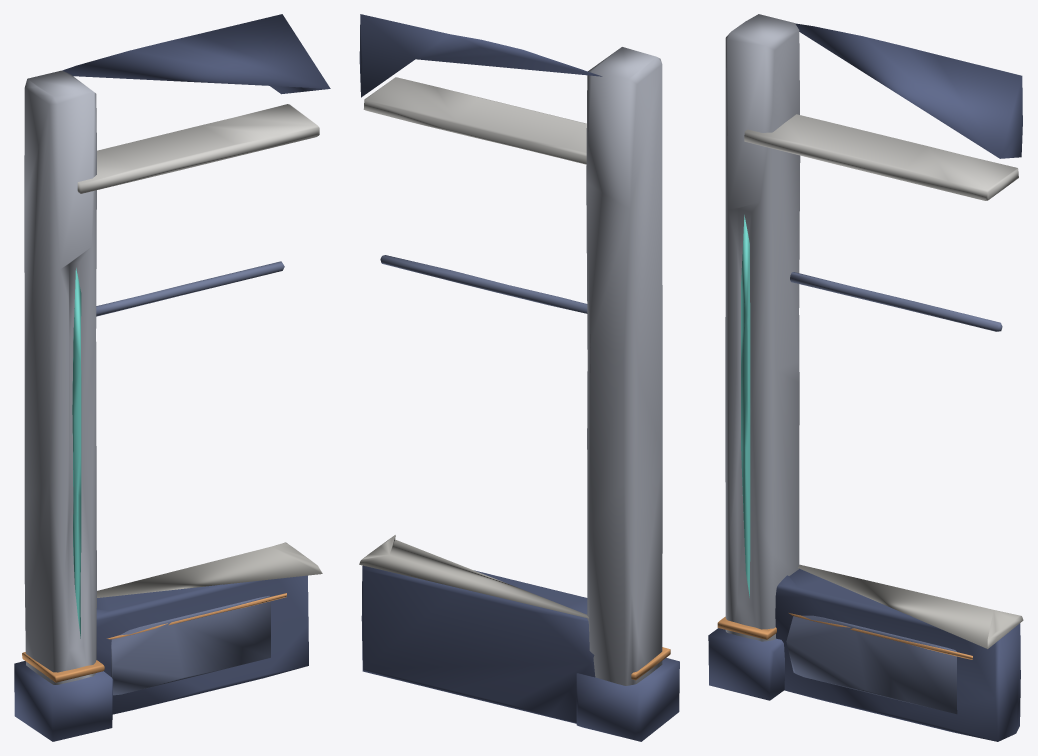
File: bay.glb
The picture shows the model from 3 angles, left to right: view 1: azimuth 30°, elevation 25°; view 2: azimuth 150°, elevation 25°; view 3: azimuth 330°, elevation 25°; orthographic projection. The views are drawn at different scales.
Parts seen in each view (by area): view 1: bay, bay_glow, bay_warm_glow; view 2: bay; view 3: bay, bay_glow, bay_warm_glow.
Boxes of the visible parts, x1,y1,x2,y2 form: bay: (14,14,330,741); bay_glow: (72,268,81,638); bay_warm_glow: (107,593,286,639); bay: (359,14,679,741); bay: (708,14,1023,741); bay_glow: (741,215,750,597); bay_warm_glow: (789,613,972,659).
Size of the model in its own units: 3.52 by 7.63 by 0.9457.
